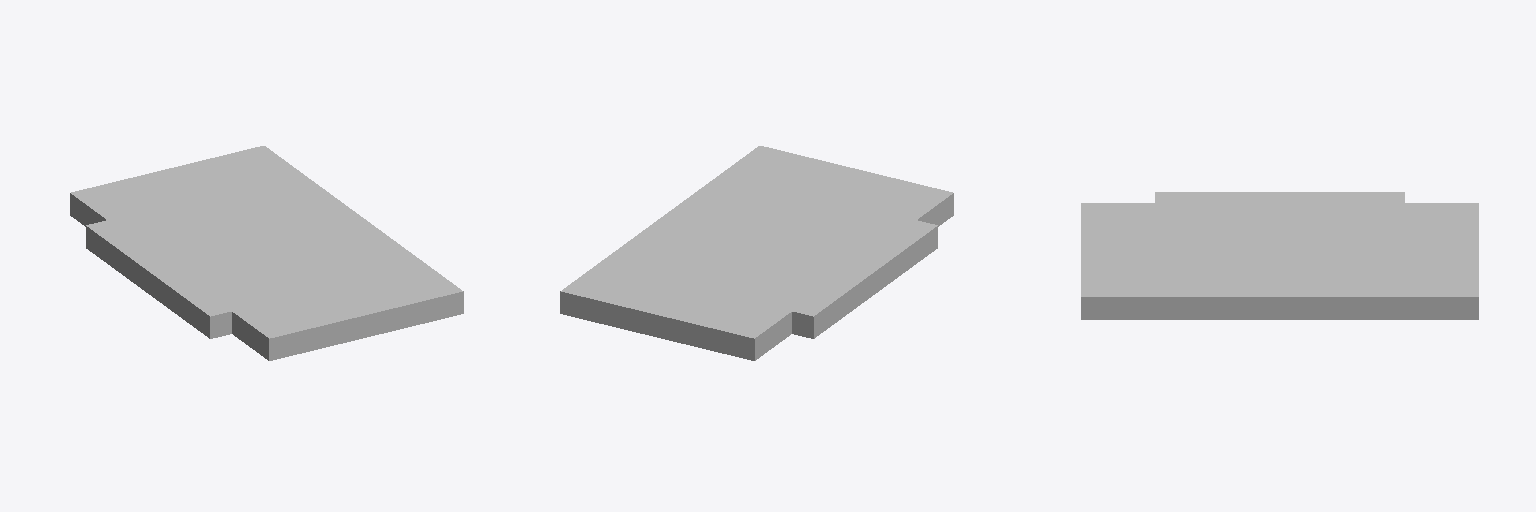
Rendered from 3D Voxel Park-39.obj.
The picture shows the model from 3 angles: view 1: azimuth 30°, elevation 25°; view 2: azimuth 150°, elevation 25°; view 3: azimuth 270°, elevation 25°; orthographic projection.
Visible parts, largest first — view 1: object 1; view 2: object 1; view 3: object 1.
Boxes of the visible parts, box(x1,y1,x2,y2) form: object 1: box(70, 146, 463, 360); object 1: box(560, 146, 953, 360); object 1: box(1081, 192, 1478, 319).
Bounding box in the file's own units: 1 × 0.1 × 1.6.